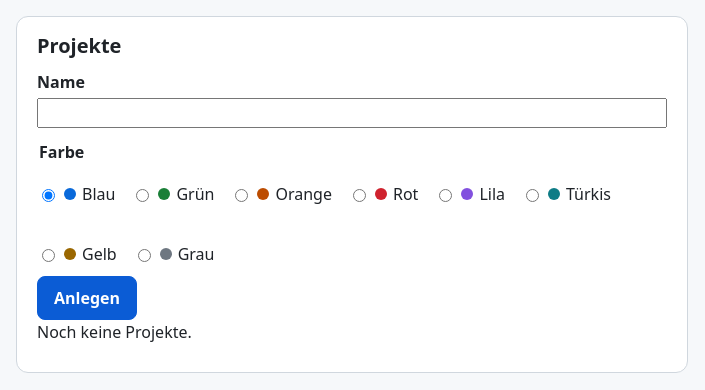
Test: ProjectsView › creates "Kunde A" with the default color and lists it
Type "Kunde A" into the field labelled "Name".
click(352, 113); type("Kunde A")  # box [37,98,667,128]
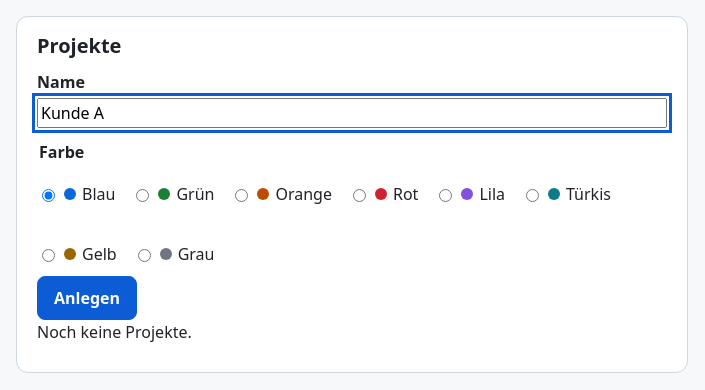
Click the button "Anlegen".
click(87, 298)  # box [37,276,137,320]
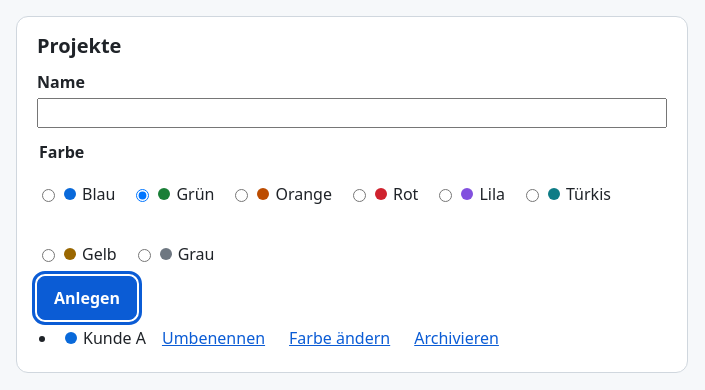
expect the text "Kunde A" is shown: met, box [83,326,146,350]
